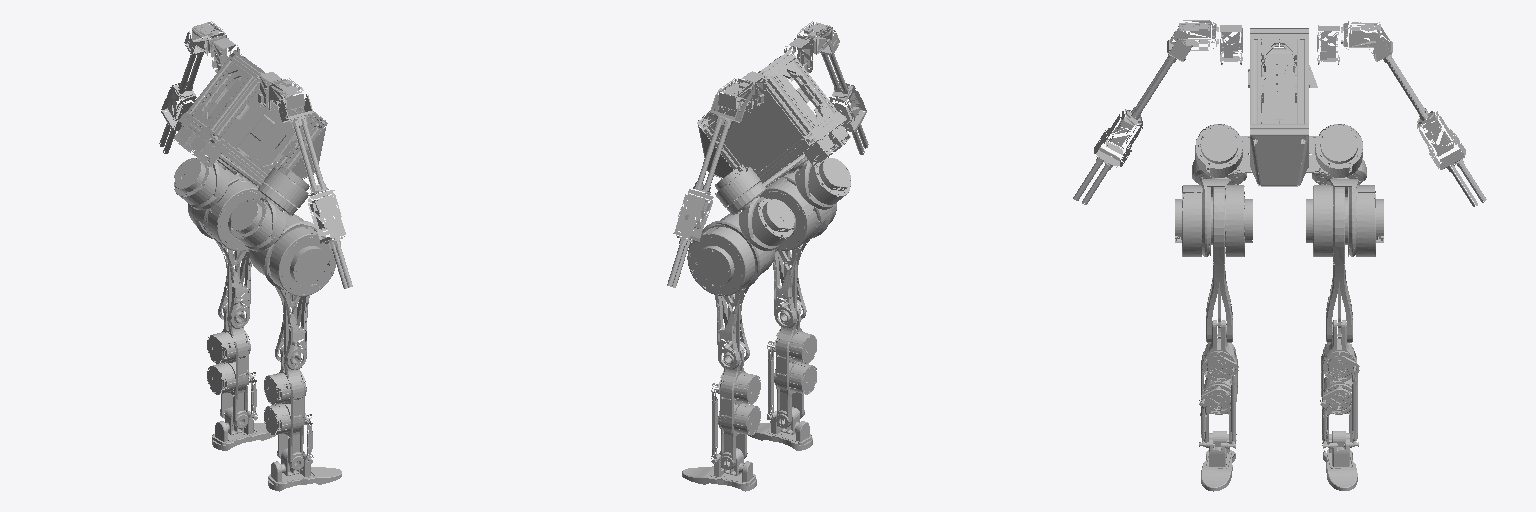
robot.urdf — irmv_v2_0319:
<?xml version="1.0" encoding="utf-8"?>
<!-- This URDF was automatically created by SolidWorks to URDF Exporter! Originally created by [author] ([email redacted]) 
     Commit Version: 1.6.0-4-g7f85cfe  Build Version: 1.6.7995.38578
     For more information, please see http://wiki.ros.org/sw_urdf_exporter -->
<robot
  name="irmv_v2_0319">
  <mujoco>
        <compiler 
        meshdir="../meshes/" 
        balanceinertia="true" 
        discardvisual="false" />
  </mujoco>


  <link
    name="Link_base">
    <inertial>
      <origin
        xyz="-0.015775 -3.32E-05 0.1209"
        rpy="0 0 0" />
      <mass
        value="1.7973" />
      <inertia
        ixx="0.017873"
        ixy="-1.18E-06"
        ixz="-9.241E-05"
        iyy="0.0011627"
        iyz="-4.3E-07"
        izz="0.017859" />
    </inertial>
    <visual>
      <origin
        xyz="0 0 0"
        rpy="0 0 0" />
      <geometry>
        <mesh
          filename="../meshes/Link_base.STL" />
      </geometry>
      <material
        name="">
        <color
          rgba="0.75294 0.75294 0.75294 1" />
      </material>
    </visual>
    <collision>
      <origin
        xyz="0 0 0"
        rpy="0 0 0" />
      <geometry>
        <mesh
          filename="../meshes/Link_base.STL" />
      </geometry>
    </collision>
  </link>

<link
    name="Link_body">
    <inertial>
      <origin
        xyz="-0.017923 0.0012904 0.22071"
        rpy="0 0 0" />
      <mass
        value="4.93" />
      <inertia
        ixx="0.071345"
        ixy="0.0005038"
        ixz="-0.0050769"
        iyy="0.035788"
        iyz="6.077E-05"
        izz="0.061634" />
    </inertial>
    <visual>
      <origin
        xyz="0 0 0"
        rpy="0 0 0" />
      <geometry>
        <mesh
          filename="../meshes/Link_body.STL" />
      </geometry>
      <material
        name="">
        <color
          rgba="0.75294 0.75294 0.75294 1" />
      </material>
    </visual>
    <collision>
      <origin
        xyz="0 0 0"
        rpy="0 0 0" />
      <geometry>
        <mesh
          filename="../meshes/Link_body.STL" />
      </geometry>
    </collision>
  </link>

  <joint
    name="Joint_body"
    type="fixed">
    <origin
      xyz="0 0 0"
      rpy="0 0 0" />
    <parent
      link="Link_base" />
    <child
      link="Link_body" />
    <axis
      xyz="0 0 1" />
  </joint>

  <link
    name="Link_hip_l_yaw">
    <inertial>
      <origin
        xyz="0.0021922 -4.922E-05 0.0025535"
        rpy="0 0 0" />
      <mass
        value="0.9411" />
      <inertia
        ixx="0.00073271"
        ixy="-1.13E-06"
        ixz="9.736E-05"
        iyy="0.00068327"
        iyz="7.2E-07"
        izz="0.00076393" />
    </inertial>
    <visual>
      <origin
        xyz="0 0 0"
        rpy="0 0 0" />
      <geometry>
        <mesh
          filename="../meshes/Link_hip_l_yaw.STL" />
      </geometry>
      <material
        name="">
        <color
          rgba="0.75294 0.75294 0.75294 1" />
      </material>
    </visual>
    <collision>
      <origin
        xyz="0 0 0"
        rpy="0 0 0" />
      <geometry>
        <mesh
          filename="../meshes/Link_hip_l_yaw.STL" />
      </geometry>
    </collision>
  </link>
  <joint
    name="Joint_hip_l_yaw"
    type="revolute">
    <origin
      xyz="-0.068236 0.1 0.068236"
      rpy="0 0 0" />
    <parent
      link="Link_base" />
    <child
      link="Link_hip_l_yaw" />
    <axis
      xyz="0.70711 0 0.70711" />
    <limit
      lower="-1.5708"
      upper="1.5708"
      effort="40"
      velocity="3.45 " />
  </joint>
  <link
    name="Link_hip_l_roll">
    <inertial>
      <origin
        xyz="-0.0033731 0.036973 0.0032853"
        rpy="0 0 0" />
      <mass
        value="1.7075" />
      <inertia
        ixx="0.0020338"
        ixy="0.00015887"
        ixz="-0.00012869"
        iyy="0.0031046"
        iyz="-0.00016472"
        izz="0.0020345" />
    </inertial>
    <visual>
      <origin
        xyz="0 0 0"
        rpy="0 0 0" />
      <geometry>
        <mesh
          filename="../meshes/Link_hip_l_roll.STL" />
      </geometry>
      <material
        name="">
        <color
          rgba="0.75294 0.75294 0.75294 1" />
      </material>
    </visual>
    <collision>
      <origin
        xyz="0 0 0"
        rpy="0 0 0" />
      <geometry>
        <mesh
          filename="../meshes/Link_hip_l_roll.STL" />
      </geometry>
    </collision>
  </link>
  <joint
    name="Joint_hip_l_roll"
    type="revolute">
    <origin
      xyz="0.068236 0 -0.068236"
      rpy="0 0 0" />
    <parent
      link="Link_hip_l_yaw" />
    <child
      link="Link_hip_l_roll" />
    <axis
      xyz="0.70711 0 -0.70711" />
    <limit
      lower="-1.5708"
      upper="1.5708"
      effort="40"
      velocity="3.45" />
  </joint>
  <link
    name="Link_hip_l_pitch">
    <inertial>
      <origin
        xyz="0.0011796 -0.016905 -0.026609"
        rpy="0 0 0" />
      <mass
        value="1.9602" />
      <inertia
        ixx="0.0087865"
        ixy="3.373E-05"
        ixz="-0.00012703"
        iyy="0.0095896"
        iyz="-0.00088229"
        izz="0.0018987" />
    </inertial>
    <visual>
      <origin
        xyz="0 0 0"
        rpy="0 0 0" />
      <geometry>
        <mesh
          filename="../meshes/Link_hip_l_pitch.STL" />
      </geometry>
      <material
        name="">
        <color
          rgba="0.75294 0.75294 0.75294 1" />
      </material>
    </visual>
    <collision>
      <origin
        xyz="0 0 0"
        rpy="0 0 0" />
      <geometry>
        <mesh
          filename="../meshes/Link_hip_l_pitch.STL" />
      </geometry>
    </collision>
  </link>
  <joint
    name="Joint_hip_l_pitch"
    type="revolute">
    <origin
      xyz="0 0 0"
      rpy="0 0 0" />
    <parent
      link="Link_hip_l_roll" />
    <child
      link="Link_hip_l_pitch" />
    <axis
      xyz="0 -1 0" />
    <limit
      lower="-0.9948"
      upper="2.2689"
      effort="45"
      velocity="15.71" />
  </joint>
  <link
    name="Link_knee_l_pitch">
    <inertial>
      <origin
        xyz="-0.0066852 0.00034298 -0.093038"
        rpy="0 0 0" />
      <mass
        value="1.0785" />
      <inertia
        ixx="0.002539"
        ixy="1.046E-05"
        ixz="-6.296E-05"
        iyy="0.0025304"
        iyz="-3.58E-06"
        izz="0.00051393" />
    </inertial>
    <visual>
      <origin
        xyz="0 0 0"
        rpy="0 0 0" />
      <geometry>
        <mesh
          filename="../meshes/Link_knee_l_pitch.STL" />
      </geometry>
      <material
        name="">
        <color
          rgba="0.75294 0.75294 0.75294 1" />
      </material>
    </visual>
    <collision>
      <origin
        xyz="0 0 0"
        rpy="0 0 0" />
      <geometry>
        <mesh
          filename="../meshes/Link_knee_l_pitch.STL" />
      </geometry>
    </collision>
  </link>
  <joint
    name="Joint_knee_l_pitch"
    type="revolute">
    <origin
      xyz="0 0 -0.2"
      rpy="0 0 0" />
    <parent
      link="Link_hip_l_pitch" />
    <child
      link="Link_knee_l_pitch" />
    <axis
      xyz="0 -1 0" />
    <limit
      lower="-2.0944"
      upper="0"
      effort="45"
      velocity="15.71" />
  </joint>
  <link
    name="Link_ankle_l_pitch">
    <inertial>
      <origin
        xyz="0 -0.00061416 -0.010352"
        rpy="0 0 0" />
      <mass
        value="0.058811" />
      <inertia
        ixx="9.9632E-06"
        ixy="-1.0683E-20"
        ixz="2.5225E-21"
        iyy="1.6724E-05"
        iyz="4.3857E-20"
        izz="1.0652E-05" />
    </inertial>
    <visual>
      <origin
        xyz="0 0 0"
        rpy="0 0 0" />
      <geometry>
        <mesh
          filename="../meshes/Link_ankle_l_pitch.STL" />
      </geometry>
      <material
        name="">
        <color
          rgba="0.75294 0.75294 0.75294 1" />
      </material>
    </visual>
    <collision>
      <origin
        xyz="0 0 0"
        rpy="0 0 0" />
      <geometry>
        <mesh
          filename="../meshes/Link_ankle_l_pitch.STL" />
      </geometry>
    </collision>
  </link>
  <joint
    name="Joint_ankle_l_pitch"
    type="revolute">
    <origin
      xyz="0 0 -0.2"
      rpy="0 0 0" />
    <parent
      link="Link_knee_l_pitch" />
    <child
      link="Link_ankle_l_pitch" />
    <axis
      xyz="0 -1 0" />
    <limit
      lower="-0.6632"
      upper="0.3491"
      effort="36"
      velocity="7.54" />
  </joint>
  <link
    name="Link_ankle_l_roll">
    <inertial>
      <origin
        xyz="0.021459 0 -0.01976"
        rpy="0 0 0" />
      <mass
        value="0.22291" />
      <inertia
        ixx="6.837E-05"
        ixy="-1.6692E-05"
        ixz="4.4053E-06"
        iyy="0.00031616"
        iyz="4.5799E-07"
        izz="0.00032322" />
    </inertial>
    <visual>
      <origin
        xyz="0 0 0"
        rpy="0 0 0" />
      <geometry>
        <mesh
          filename="../meshes/Link_ankle_l_roll.STL" />
      </geometry>
      <material
        name="">
        <color
          rgba="0.75294 0.75294 0.75294 1" />
      </material>
    </visual>
    <collision>
      <origin
        xyz="0.05 0 -0.008"
        rpy="0 0 0" />
      <geometry>
        <!-- <mesh
          filename="../meshes/Link_ankle_l_roll.STL" /> -->
        <box size="0.20 0.05 0.05" />
      </geometry>
    </collision>
  </link>
  <joint
    name="Joint_ankle_l_roll"
    type="fixed">
    <origin
      xyz="0 0 -0.018"
      rpy="0 0 0" />
    <parent
      link="Link_ankle_l_pitch" />
    <child
      link="Link_ankle_l_roll" />
    <axis
      xyz="1 0 0" />
  </joint>
  <link
    name="Link_hip_r_yaw">
    <inertial>
      <origin
        xyz="0.0021922 4.922E-05 0.0025535"
        rpy="0 0 0" />
      <mass
        value="0.9411" />
      <inertia
        ixx="0.00073271"
        ixy="1.13E-06"
        ixz="9.736E-05"
        iyy="0.00068327"
        iyz="-7.2E-07"
        izz="0.00076393" />
    </inertial>
    <visual>
      <origin
        xyz="0 0 0"
        rpy="0 0 0" />
      <geometry>
        <mesh
          filename="../meshes/Link_hip_r_yaw.STL" />
      </geometry>
      <material
        name="">
        <color
          rgba="0.75294 0.75294 0.75294 1" />
      </material>
    </visual>
    <collision>
      <origin
        xyz="0 0 0"
        rpy="0 0 0" />
      <geometry>
        <mesh
          filename="../meshes/Link_hip_r_yaw.STL" />
      </geometry>
    </collision>
  </link>
  <joint
    name="Joint_hip_r_yaw"
    type="revolute">
    <origin
      xyz="-0.068236 -0.1 0.068236"
      rpy="0 0 0" />
    <parent
      link="Link_base" />
    <child
      link="Link_hip_r_yaw" />
    <axis
      xyz="0.70711 0 0.70711" />
    <limit
      lower="-1.5708"
      upper="1.5708"
      effort="40"
      velocity="3.45" />
  </joint>
  <link
    name="Link_hip_r_roll">
    <inertial>
      <origin
        xyz="-0.0033731 -0.036973 0.0032853"
        rpy="0 0 0" />
      <mass
        value="1.7075" />
      <inertia
        ixx="0.0020338"
        ixy="-0.00015887"
        ixz="-0.00012869"
        iyy="0.0031046"
        iyz="0.00016472"
        izz="0.0020345" />
    </inertial>
    <visual>
      <origin
        xyz="0 0 0"
        rpy="0 0 0" />
      <geometry>
        <mesh
          filename="../meshes/Link_hip_r_roll.STL" />
      </geometry>
      <material
        name="">
        <color
          rgba="0.75294 0.75294 0.75294 1" />
      </material>
    </visual>
    <collision>
      <origin
        xyz="0 0 0"
        rpy="0 0 0" />
      <geometry>
        <mesh
          filename="../meshes/Link_hip_r_roll.STL" />
      </geometry>
    </collision>
  </link>
  <joint
    name="Joint_hip_r_roll"
    type="revolute">
    <origin
      xyz="0.068236 0 -0.068236"
      rpy="0 0 0" />
    <parent
      link="Link_hip_r_yaw" />
    <child
      link="Link_hip_r_roll" />
    <axis
      xyz="0.70711 0 -0.70711" />
    <limit
      lower="-1.5708"
      upper="1.5708"
      effort="40"
      velocity="3.45" />
  </joint>
  <link
    name="Link_hip_r_pitch">
    <inertial>
      <origin
        xyz="0.00117955 0.01690499 -0.02660882"
        rpy="0 0 0" />
      <mass
        value="1.9602" />
      <inertia
        ixx="0.0087865"
        ixy="-3.373E-05"
        ixz="-0.00012703"
        iyy="0.0095896"
        iyz="0.00088229"
        izz="0.0018987" />
    </inertial>
    <visual>
      <origin
        xyz="0 0 0"
        rpy="0 0 0" />
      <geometry>
        <mesh
          filename="../meshes/Link_hip_r_pitch.STL" />
      </geometry>
      <material
        name="">
        <color
          rgba="0.75294 0.75294 0.75294 1" />
      </material>
    </visual>
    <collision>
      <origin
        xyz="0 0 0"
        rpy="0 0 0" />
      <geometry>
        <mesh
          filename="../meshes/Link_hip_r_pitch.STL" />
      </geometry>
    </collision>
  </link>
  <joint
    name="Joint_hip_r_pitch"
    type="revolute">
    <origin
      xyz="0 0 0"
      rpy="0 0 0" />
    <parent
      link="Link_hip_r_roll" />
    <child
      link="Link_hip_r_pitch" />
    <axis
      xyz="0 -1 0" />
    <limit
      lower="-0.9948"
      upper="2.2689"
      effort="45"
      velocity="15.71" />
  </joint>
  <link
    name="Link_knee_r_pitch">
    <inertial>
      <origin
        xyz="-0.0066852 -0.00034298 -0.093038"
        rpy="0 0 0" />
      <mass
        value="1.0785" />
      <inertia
        ixx="0.002539"
        ixy="-1.046E-05"
        ixz="-6.296E-05"
        iyy="0.0025304"
        iyz="3.58E-06"
        izz="0.00051393" />
    </inertial>
    <visual>
      <origin
        xyz="0 0 0"
        rpy="0 0 0" />
      <geometry>
        <mesh
          filename="../meshes/Link_knee_r_pitch.STL" />
      </geometry>
      <material
        name="">
        <color
          rgba="0.75294 0.75294 0.75294 1" />
      </material>
    </visual>
    <collision>
      <origin
        xyz="0 0 0"
        rpy="0 0 0" />
      <geometry>
        <mesh
          filename="../meshes/Link_knee_r_pitch.STL" />
      </geometry>
    </collision>
  </link>
  <joint
    name="Joint_knee_r_pitch"
    type="revolute">
    <origin
      xyz="0 0 -0.2"
      rpy="0 0 0" />
    <parent
      link="Link_hip_r_pitch" />
    <child
      link="Link_knee_r_pitch" />
    <axis
      xyz="0 -1 0" />
    <limit
      lower="-2.0944"
      upper="0"
      effort="45"
      velocity="15.71" />
  </joint>
  <link
    name="Link_ankle_r_pitch">
    <inertial>
      <origin
        xyz="0 0.00061416 -0.010352"
        rpy="0 0 0" />
      <mass
        value="0.058811" />
      <inertia
        ixx="9.9632E-06"
        ixy="5.6296E-20"
        ixz="-2.5023E-21"
        iyy="1.6724E-05"
        iyz="-3.9436E-20"
        izz="1.0652E-05" />
    </inertial>
    <visual>
      <origin
        xyz="0 0 0"
        rpy="0 0 0" />
      <geometry>
        <mesh
          filename="../meshes/Link_ankle_r_pitch.STL" />
      </geometry>
      <material
        name="">
        <color
          rgba="0.75294 0.75294 0.75294 1" />
      </material>
    </visual>
    <collision>
      <origin
        xyz="0 0 0"
        rpy="0 0 0" />
      <geometry>
        <mesh
          filename="../meshes/Link_ankle_r_pitch.STL" />
      </geometry>
    </collision>
  </link>
  <joint
    name="Joint_ankle_r_pitch"
    type="revolute">
    <origin
      xyz="0 0 -0.2"
      rpy="0 0 0" />
    <parent
      link="Link_knee_r_pitch" />
    <child
      link="Link_ankle_r_pitch" />
    <axis
      xyz="0 -1 0" />
    <limit
      lower="-0.6632"
      upper="0.3491"
      effort="36"
      velocity="7.54" />
  </joint>
  <link
    name="Link_ankle_r_roll">
    <inertial>
      <origin
        xyz="0.0214588 0 -0.01975951"
        rpy="0 0 0" />
      <mass
        value="0.22291" />
      <inertia
        ixx="6.837E-05"
        ixy="1.6693E-05"
        ixz="4.4053E-06"
        iyy="0.00031616"
        iyz="-4.5795E-07"
        izz="0.00032322" />
    </inertial>
    <visual>
      <origin
        xyz="0 0 0"
        rpy="0 0 0" />
      <geometry>
        <mesh
          filename="../meshes/Link_ankle_r_roll.STL" />
      </geometry>
      <material
        name="">
        <color
          rgba="0.75294 0.75294 0.75294 1" />
      </material>
    </visual>
    <collision>
      <origin
        xyz="0.05 0 -0.008"
        rpy="0 0 0" />
      <geometry>
        <!-- <mesh
          filename="../meshes/Link_ankle_r_roll.STL" /> -->
        <box size="0.20 0.05 0.05" />
      </geometry>
    </collision>
  </link>
  <joint
    name="Joint_ankle_r_roll"
    type="fixed">
    <origin
      xyz="0 0 -0.018"
      rpy="0 0 0" />
    <parent
      link="Link_ankle_r_pitch" />
    <child
      link="Link_ankle_r_roll" />
    <axis
      xyz="1 0 0" />
  </joint>
</robot>

--- Render facts (derived) ---
Views: 3 orthographic renders of the robot side by side, from view 1: azimuth 30°, elevation 25°; view 2: azimuth 150°, elevation 25°; view 3: azimuth 270°, elevation 25°.
Model irmv_v2_0319 with 14 links and 13 joints (10 revolute, 3 fixed), rooted at Link_base, posed all joints at 0.
Links seen in each view (by area): view 1: Link_body, Link_hip_r_roll, Link_knee_l_pitch, Link_hip_l_pitch, Link_knee_r_pitch, Link_hip_r_yaw, Link_hip_l_yaw, Link_hip_r_pitch, Link_base, Link_ankle_r_roll, Link_ankle_l_roll; view 2: Link_body, Link_hip_l_roll, Link_knee_r_pitch, Link_knee_l_pitch, Link_hip_r_pitch, Link_hip_l_yaw, Link_hip_r_yaw, Link_hip_l_pitch, Link_base, Link_ankle_l_roll, Link_ankle_r_roll; view 3: Link_body, Link_base, Link_hip_r_pitch, Link_hip_l_pitch, Link_knee_l_pitch, Link_knee_r_pitch, Link_hip_l_roll, Link_hip_r_roll, Link_ankle_l_roll, Link_ankle_r_roll.
Boxes of the visible links, x1,y1,x2,y2 form: Link_body: (159, 21, 352, 288); Link_hip_r_roll: (253, 215, 335, 296); Link_knee_l_pitch: (207, 303, 257, 428); Link_hip_l_pitch: (204, 178, 264, 328); Link_knee_r_pitch: (264, 344, 313, 469); Link_hip_r_yaw: (231, 197, 285, 251); Link_hip_l_yaw: (174, 156, 229, 209); Link_hip_r_pitch: (249, 212, 309, 369); Link_base: (217, 154, 309, 216); Link_ankle_r_roll: (268, 451, 341, 491); Link_ankle_l_roll: (212, 411, 275, 450); Link_body: (667, 21, 868, 287); Link_hip_l_roll: (687, 214, 771, 295); Link_knee_r_pitch: (767, 302, 816, 427); Link_knee_l_pitch: (711, 343, 760, 469); Link_hip_r_pitch: (760, 178, 820, 328); Link_hip_l_yaw: (739, 196, 794, 250); Link_hip_r_yaw: (795, 155, 850, 209); Link_hip_l_pitch: (715, 212, 774, 369); Link_base: (715, 153, 807, 215); Link_ankle_l_roll: (682, 451, 756, 491); Link_ankle_r_roll: (748, 411, 812, 450); Link_body: (1073, 20, 1486, 206); Link_base: (1195, 124, 1362, 177); Link_hip_r_pitch: (1206, 185, 1252, 342); Link_hip_l_pitch: (1306, 185, 1352, 342); Link_knee_l_pitch: (1320, 320, 1359, 450); Link_knee_r_pitch: (1199, 320, 1238, 446); Link_hip_l_roll: (1327, 177, 1383, 256); Link_hip_r_roll: (1175, 177, 1230, 256); Link_ankle_l_roll: (1322, 442, 1358, 490); Link_ankle_r_roll: (1199, 442, 1235, 491).
Bounding box of the posed robot: 0.2642 × 0.6892 × 0.8006 m (x, y, z).
Meshes: 14 distinct files referenced, 14 mesh visuals loaded (14 binary STL).
